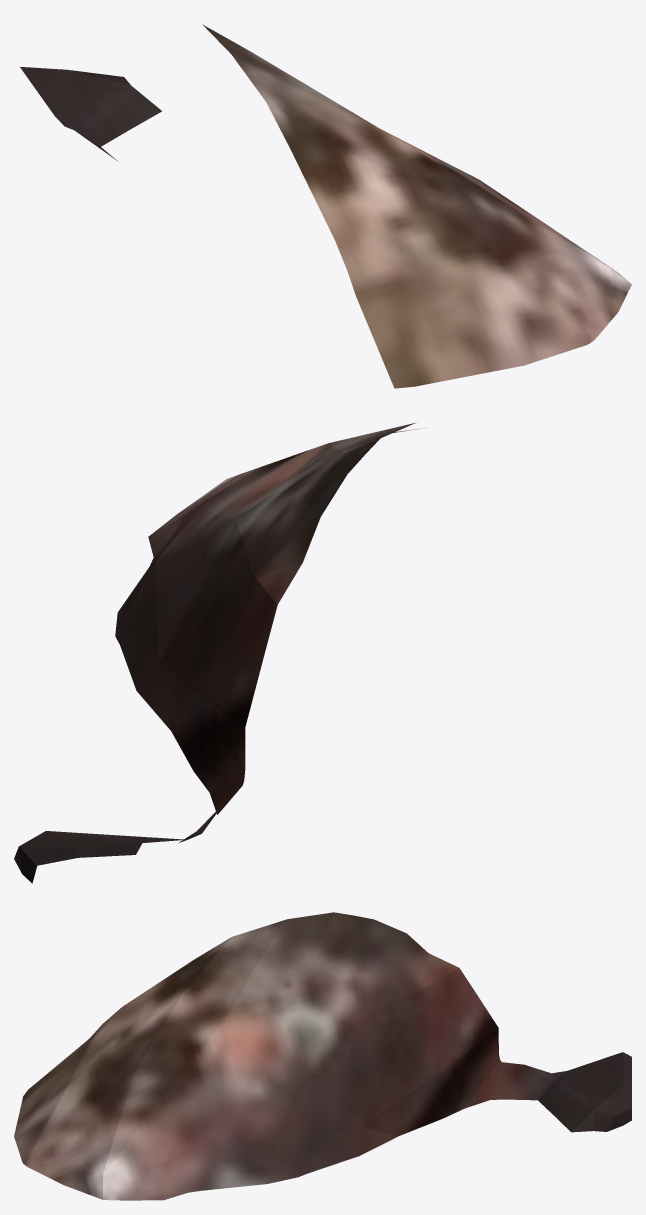
The picture shows the model from 3 angles, top to bottom: view 1: azimuth 30°, elevation 25°; view 2: azimuth 150°, elevation 25°; view 3: azimuth 270°, elevation 25°; orthographic projection. The views are drawn at different scales.
Bounding box in the file's own units: 0.1228 × 0.0916 × 0.2891.
1 material, 1 textured.
